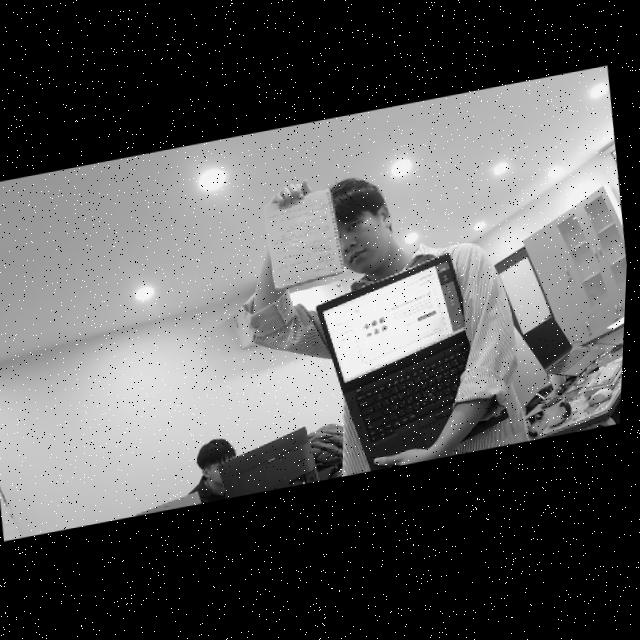document: (264, 188, 345, 291)
face: (329, 167, 395, 283)
